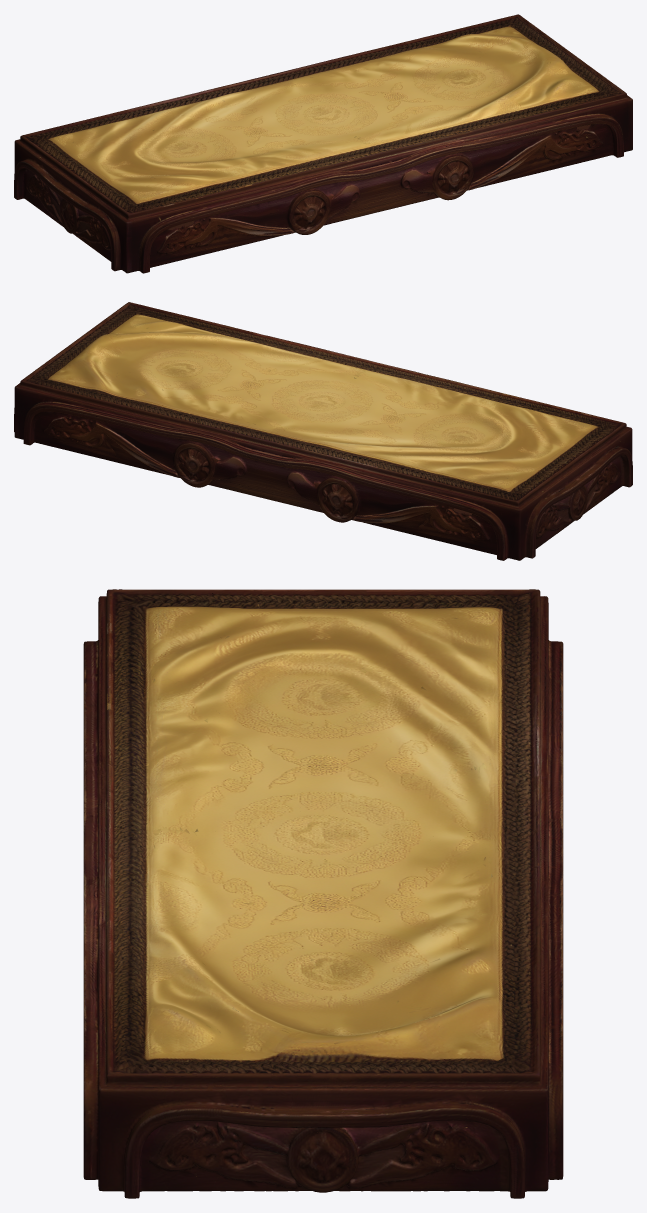
File: Meshy_AI_地炕_0308192822_texture.fbx
3 renders of one model, top to bottom at view 1: azimuth 30°, elevation 25°; view 2: azimuth 150°, elevation 25°; view 3: azimuth 270°, elevation 25°, orthographic. The views are drawn at different scales.
Parts seen in each view (by area): view 1: Mesh_0; view 2: Mesh_0; view 3: Mesh_0.
Part boxes in pixels (bbox=[...]): Mesh_0: bbox=[14, 14, 632, 273]; Mesh_0: bbox=[14, 302, 632, 560]; Mesh_0: bbox=[83, 589, 563, 1198].
Bounding box in the file's own units: 190 × 23.83 × 76.02.
1 material, 1 textured.
